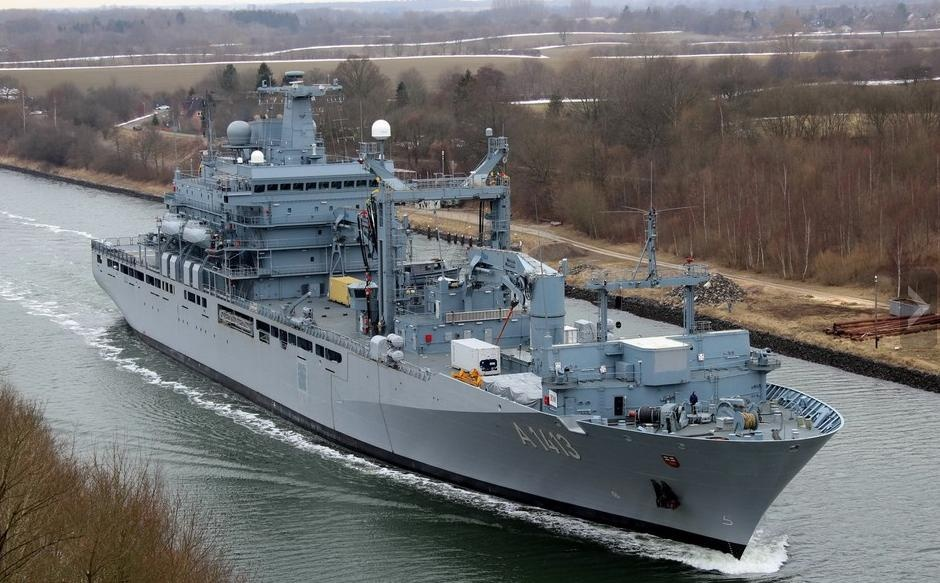warship: (81, 67, 844, 561)
